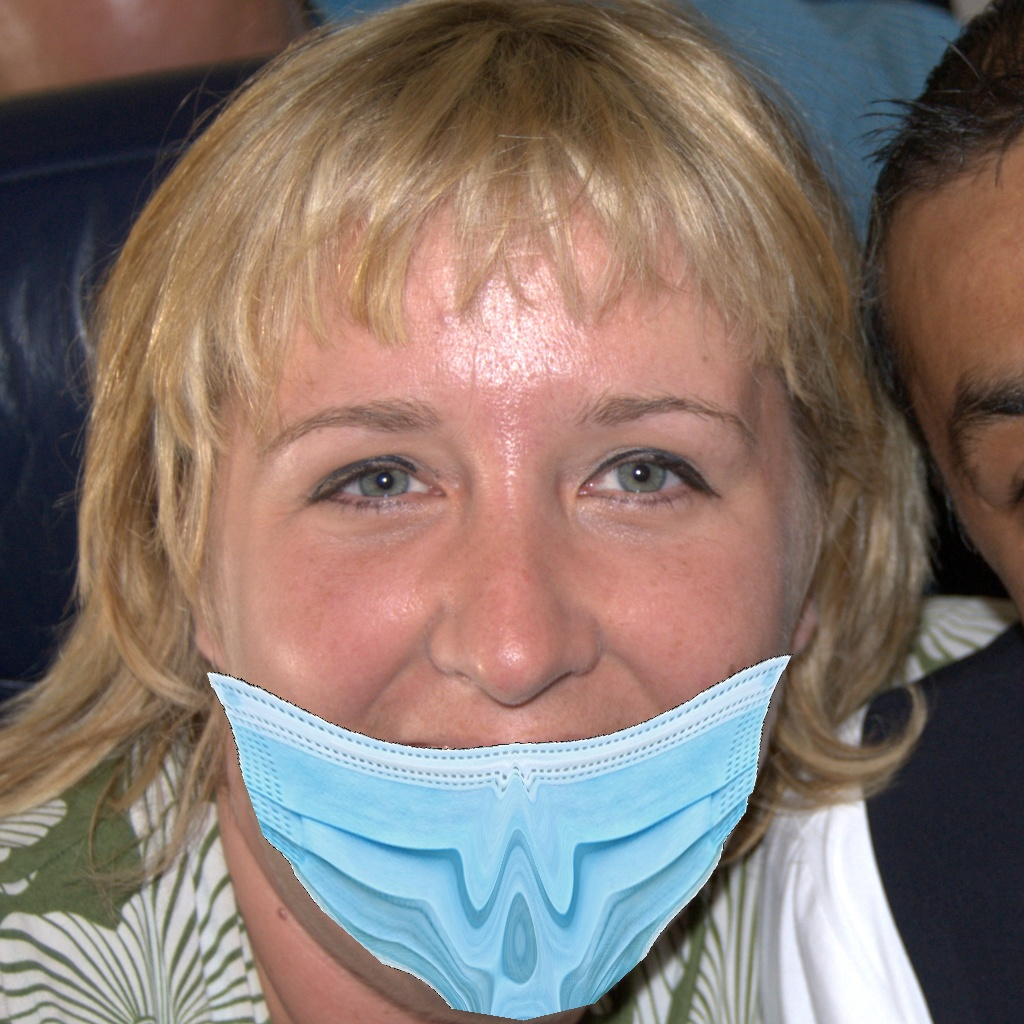mascarilla_mal_puesta: (202, 530, 869, 1015)
